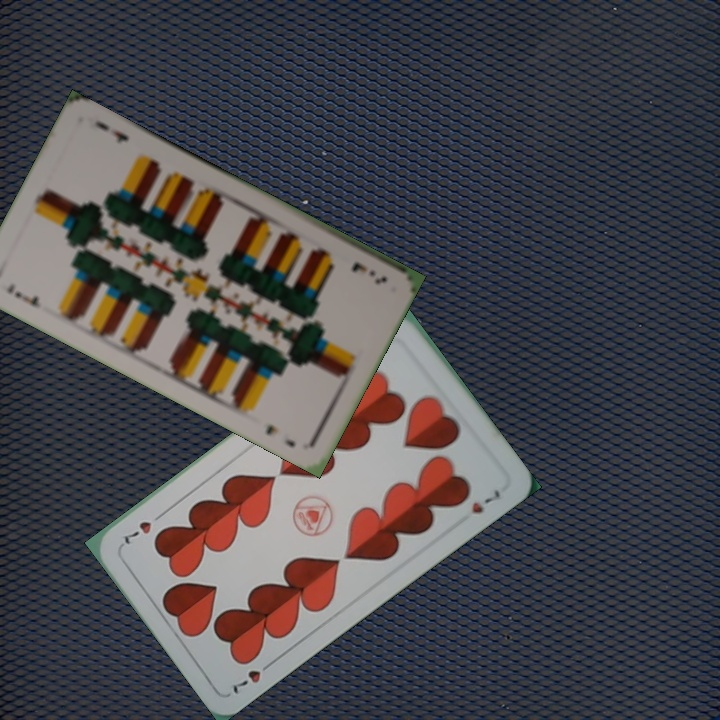E7: (2, 279, 44, 311), (347, 258, 390, 287)
H7: (228, 656, 277, 697)
